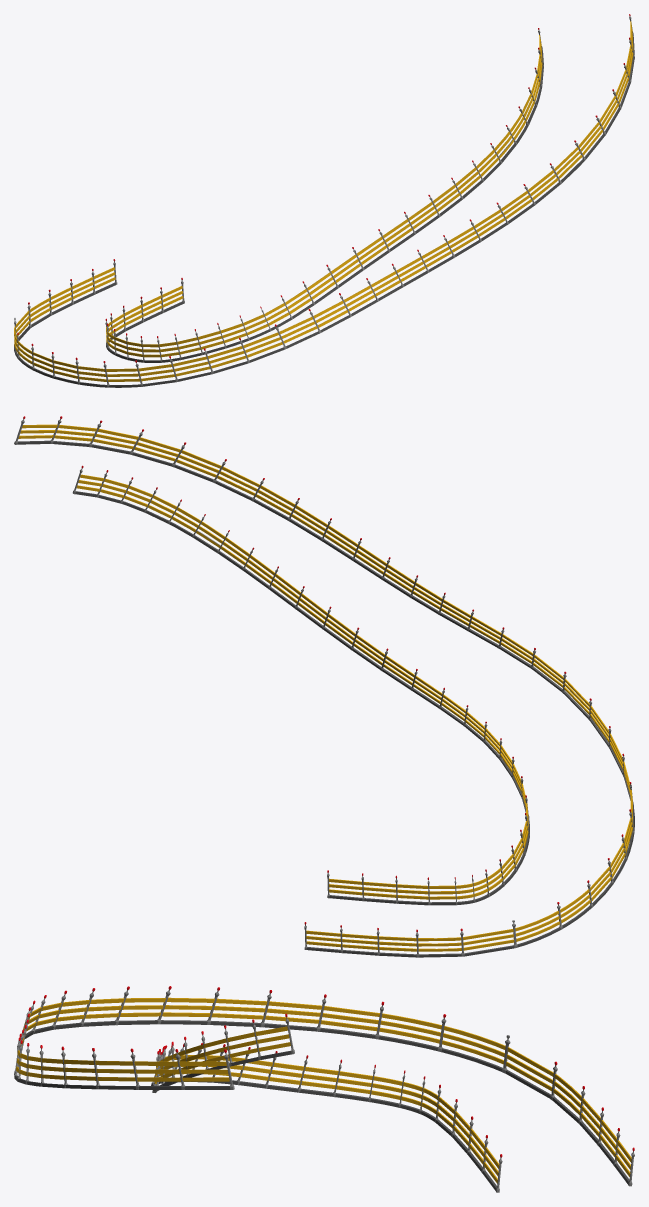
Rendered from Bande5.fbx.
3 views of the same model, one above another, from view 1: azimuth 30°, elevation 25°; view 2: azimuth 150°, elevation 25°; view 3: azimuth 270°, elevation 25° (orthographic). The views are drawn at different scales.
Parts seen in each view (by area): view 1: Bande.letzteKurve; view 2: Bande.letzteKurve; view 3: Bande.letzteKurve.
Boxes of the visible parts, x1,y1,x2,y2 form: Bande.letzteKurve: (14, 14, 634, 387); Bande.letzteKurve: (14, 416, 634, 957); Bande.letzteKurve: (14, 986, 634, 1192).
Size of the model in its own units: 28279 by 13456 by 18149.
